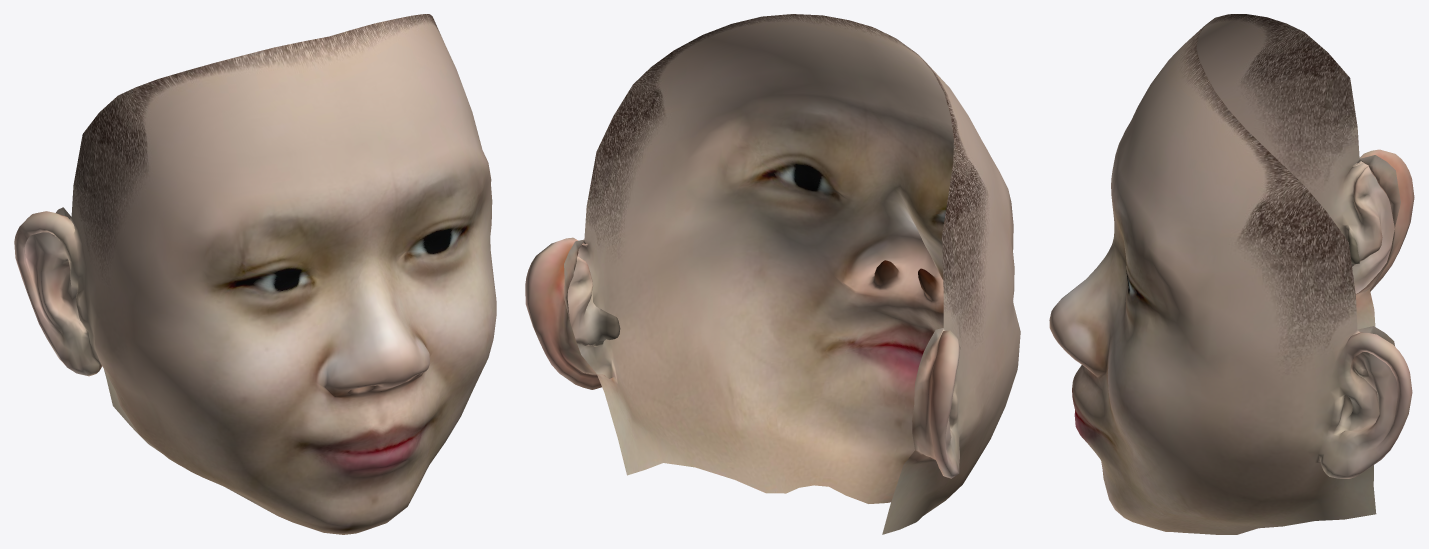
Rendered from Elsa_face.fbx.
3 views of the same model, side by side, from view 1: azimuth 30°, elevation 25°; view 2: azimuth 150°, elevation 25°; view 3: azimuth 270°, elevation 25° (orthographic). The views are drawn at different scales.
Visible parts, largest first — view 1: avaturn_body.001; view 2: avaturn_body.001; view 3: avaturn_body.001.
Boxes of the visible parts, x1,y1,x2,y2 form: avaturn_body.001: (14, 14, 496, 534); avaturn_body.001: (525, 14, 1020, 534); avaturn_body.001: (1049, 14, 1414, 534).
Bounding box in the file's own units: 17.94 × 19.86 × 13.67.
Materials: 1 (1 with a texture image).
